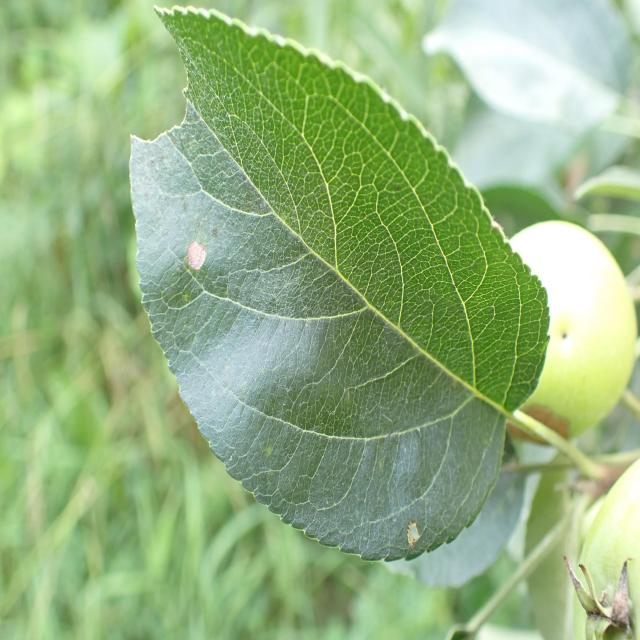Black Rot: (175, 209, 227, 310), (378, 492, 436, 562)
